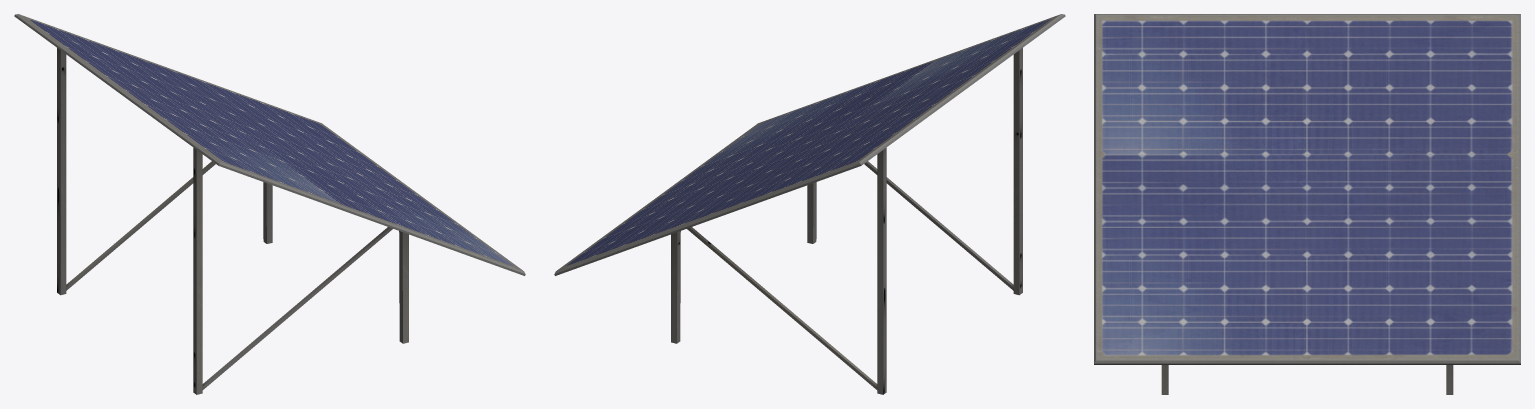
The model's file is solar_pane.fbx.
3 views of the same model, side by side, from view 1: azimuth 30°, elevation 25°; view 2: azimuth 150°, elevation 25°; view 3: azimuth 270°, elevation 25° (orthographic). The views are drawn at different scales.
Visible parts, largest first — view 1: Cube.7; view 2: Cube.7; view 3: Cube.7.
Part boxes in pixels (x1,y1,x2,y2): Cube.7: (14,14,525,394); Cube.7: (554,14,1065,394); Cube.7: (1094,14,1520,394).
Bounding box in the file's own units: 261 × 209 × 300.
